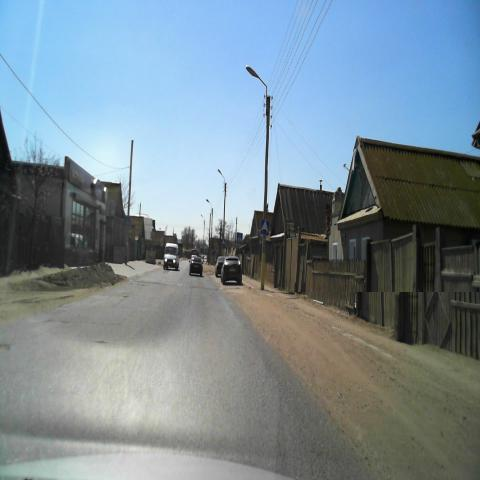5_20: (260, 219, 270, 236)
